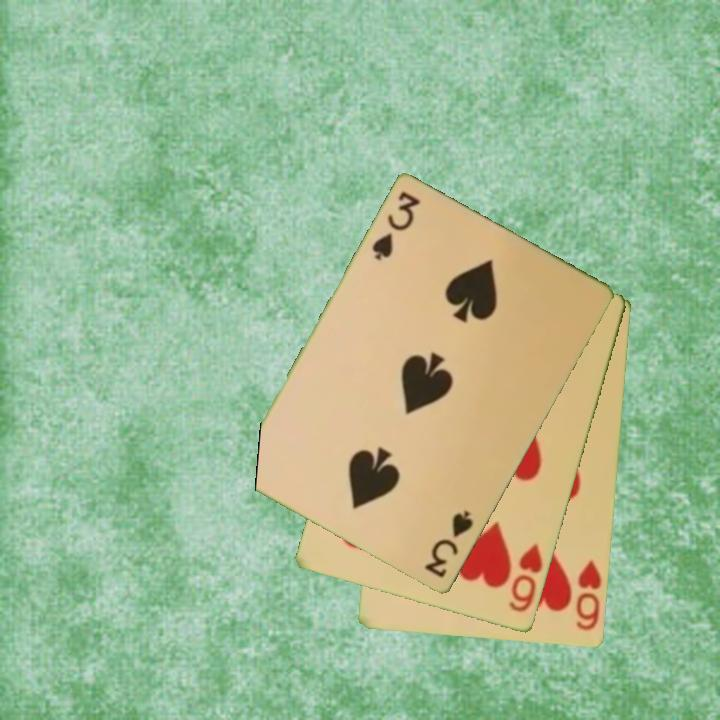3s: (368, 188, 424, 265), (421, 507, 477, 581)
6h: (505, 540, 546, 616), (573, 557, 605, 634)
